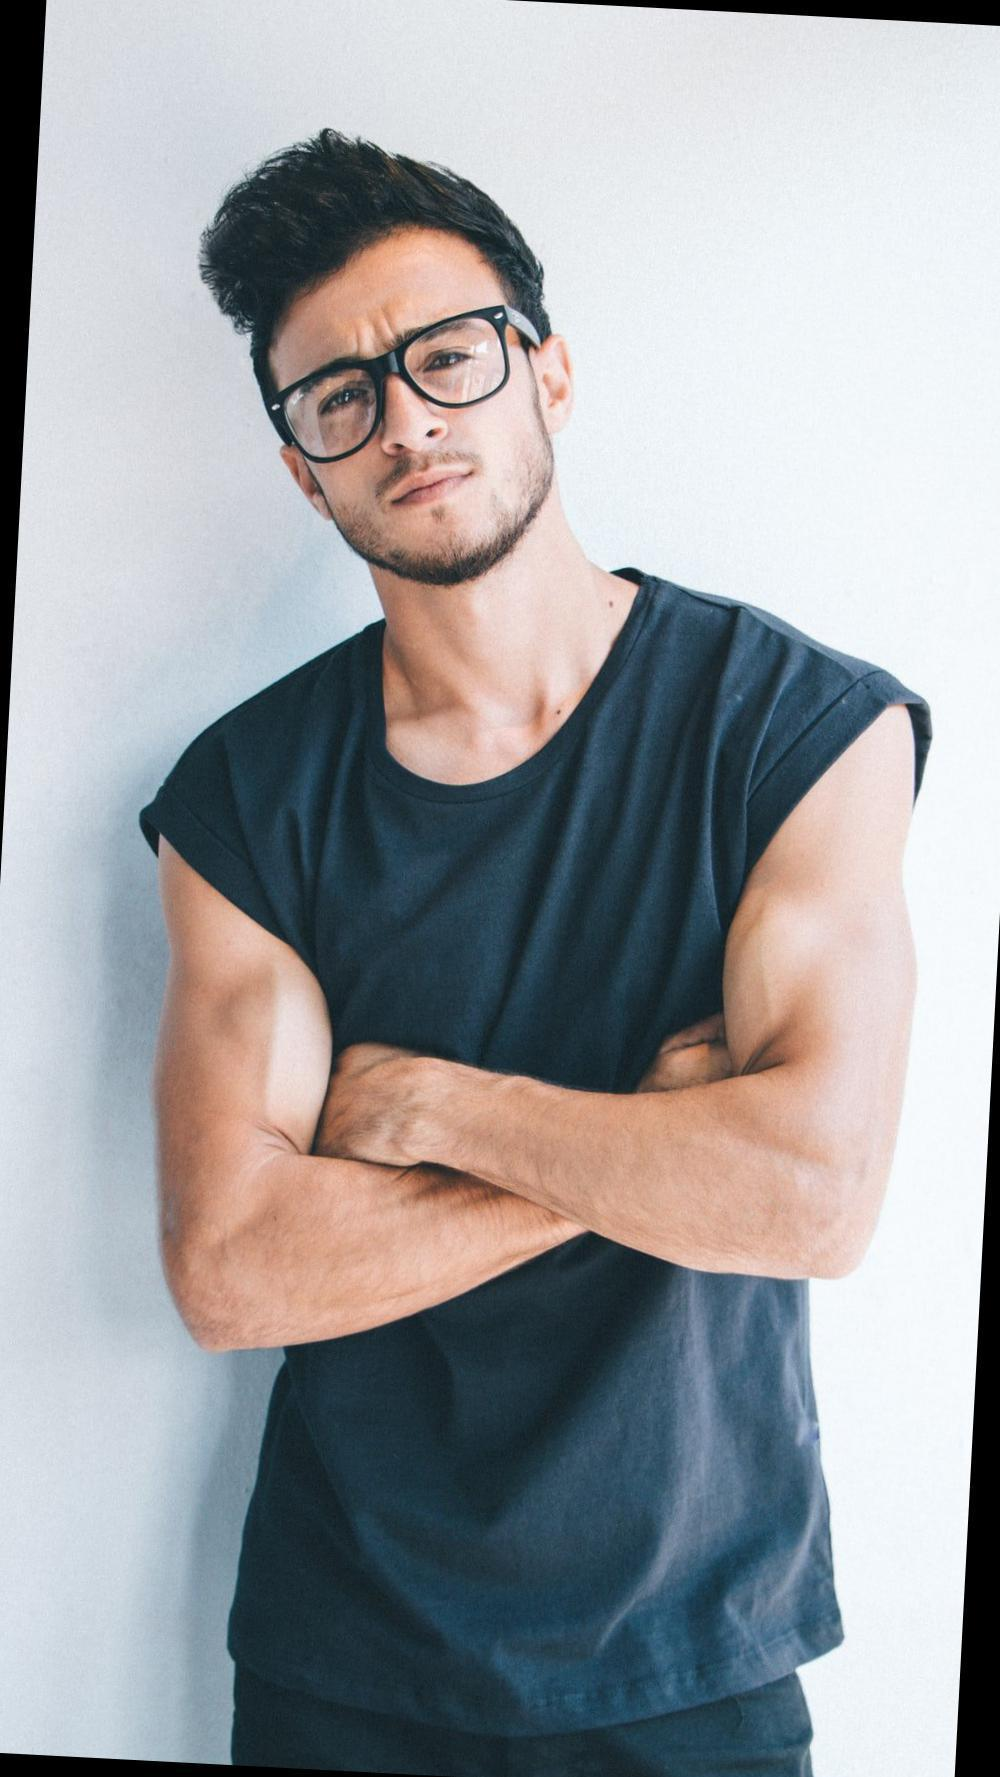Sober: (302, 267, 536, 548)
